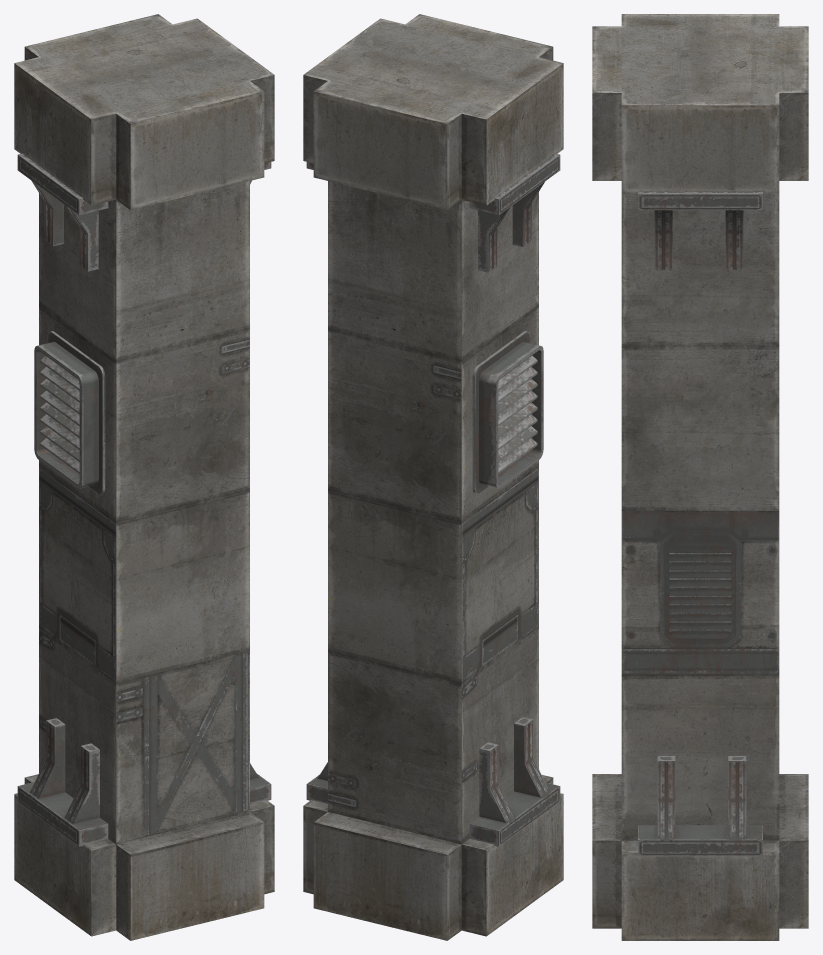
File: CP_Column_Concrete_A_05.fbx
3 renders of one model, left to right at view 1: azimuth 30°, elevation 25°; view 2: azimuth 150°, elevation 25°; view 3: azimuth 270°, elevation 25°, orthographic. The views are drawn at different scales.
Parts seen in each view (by area): view 1: CP_Column_Concrete_A_05_LOD0; view 2: CP_Column_Concrete_A_05_LOD0; view 3: CP_Column_Concrete_A_05_LOD0.
Part boxes in pixels (x1,y1,x2,y2): CP_Column_Concrete_A_05_LOD0: (14,14,274,940); CP_Column_Concrete_A_05_LOD0: (303,14,563,940); CP_Column_Concrete_A_05_LOD0: (592,14,808,940).
Size of what is drawn, in the model's own units: 98.46 by 400 by 93.9.
